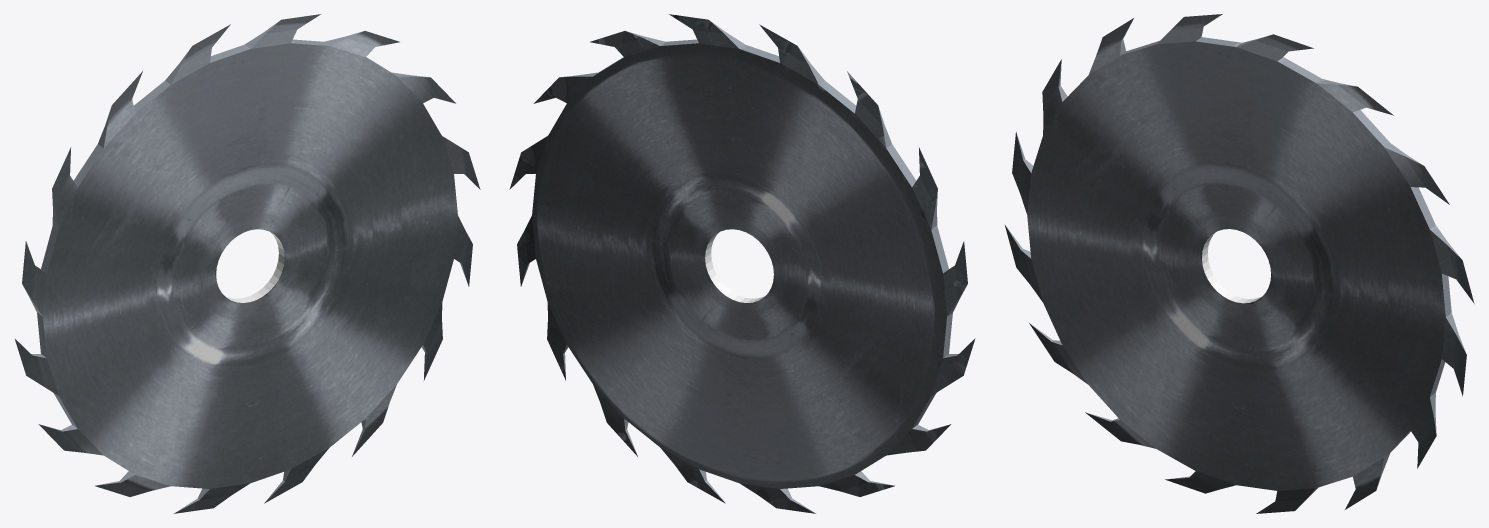
Rendered from SawBlade.fbx.
3 views of the same model, side by side, from view 1: azimuth 30°, elevation 25°; view 2: azimuth 150°, elevation 25°; view 3: azimuth 330°, elevation 25° (orthographic).
Visible parts, largest first — view 1: Cylinder; view 2: Cylinder; view 3: Cylinder.
Part boxes in pixels (bbox=[...]): Cylinder: bbox=[14, 14, 480, 513]; Cylinder: bbox=[509, 14, 975, 513]; Cylinder: bbox=[1004, 14, 1474, 513].
Bounding box in the file's own units: 149 × 149 × 3.31.
